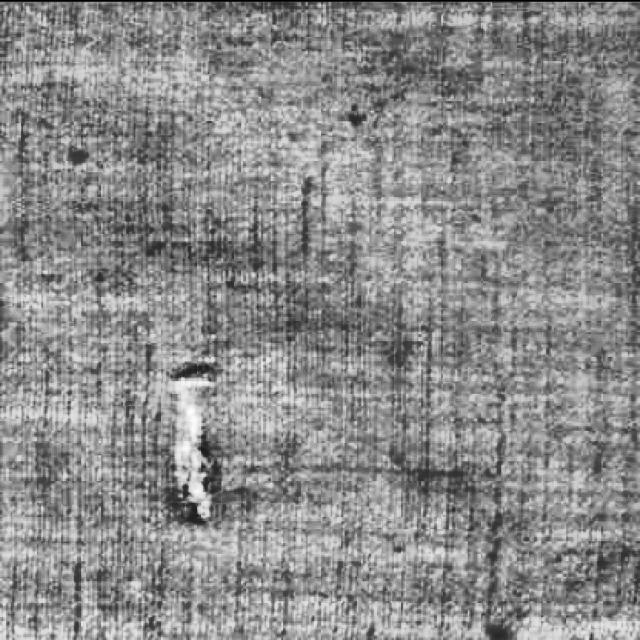hole: (164, 366, 232, 532)
